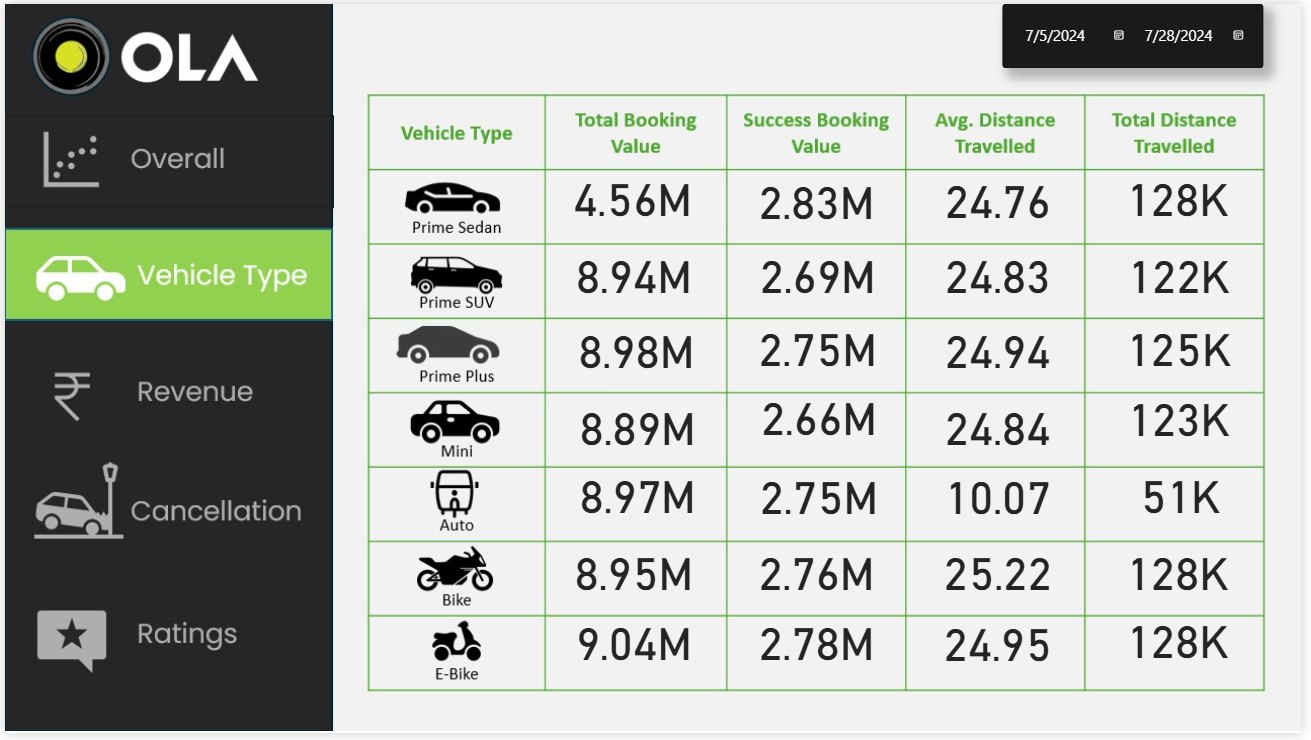

This screenshot's page, from the dashboard's own definition file:
{"tool":"powerbi","page":{"name":"Vehicle Type","canvas":[1280,720],"ordinal":1},"visuals":[{"type":"actionButton","box":[0,334.3,324.8,91.7],"z":0},{"type":"actionButton","box":[0,447.1,324.8,91.7],"z":1000},{"type":"actionButton","box":[0,577.9,324.8,91.7],"z":2000},{"type":"actionButton","box":[0,109.7,324.8,91.7],"z":3000},{"type":"card","fields":{"Values":["Sum(July.Booking_Value)"]},"box":[537.5,168.6,165.9,61.7],"z":4000},{"type":"card","fields":{"Values":["Sum(July.Booking_Value)"]},"box":[538.8,607.4,165.9,61.7],"z":5000},{"type":"card","fields":{"Values":["Sum(July.Booking_Value)"]},"box":[538.8,244,165.9,61.7],"z":6000},{"type":"card","fields":{"Values":["Sum(July.Booking_Value)"]},"box":[540.2,318.1,165.9,61.7],"z":7000},{"type":"card","fields":{"Values":["Sum(July.Booking_Value)"]},"box":[541.6,394.9,165.9,61.7],"z":8000},{"type":"card","fields":{"Values":["Sum(July.Booking_Value)"]},"box":[541.6,462,165.9,61.7],"z":9000},{"type":"card","fields":{"Values":["Sum(July.Booking_Value)"]},"box":[538.8,538.8,165.9,61.7],"z":10000},{"type":"card","fields":{"Values":["Sum(July.Booking_Value)"]},"box":[718.4,171.4,165.9,61.7],"z":11000},{"type":"card","fields":{"Values":["Sum(July.Booking_Value)"]},"box":[719.8,244,165.9,61.7],"z":12000},{"type":"card","fields":{"Values":["Sum(July.Booking_Value)"]},"box":[721.2,385.3,165.9,61.7],"z":13000},{"type":"card","fields":{"Values":["Sum(July.Booking_Value)"]},"box":[719.8,316.7,165.9,61.7],"z":14000},{"type":"card","fields":{"Values":["Sum(July.Booking_Value)"]},"box":[721.2,463.4,165.9,61.7],"z":15000},{"type":"card","fields":{"Values":["Sum(July.Booking_Value)"]},"box":[718.4,538.8,165.9,61.7],"z":16000},{"type":"card","fields":{"Values":["Sum(July.Booking_Value)"]},"box":[718.4,607.4,165.9,61.7],"z":17000},{"type":"card","fields":{"Values":["Avg(July.Ride_Distance)"]},"box":[898,170,165.9,61.7],"z":18000},{"type":"card","fields":{"Values":["Avg(July.Ride_Distance)"]},"box":[898,244,165.9,61.7],"z":19000},{"type":"card","fields":{"Values":["Avg(July.Ride_Distance)"]},"box":[898,318.1,165.9,61.7],"z":20000},{"type":"card","fields":{"Values":["Avg(July.Ride_Distance)"]},"box":[898,394.9,165.9,61.7],"z":21000},{"type":"card","fields":{"Values":["Avg(July.Ride_Distance)"]},"box":[898,463.4,165.9,61.7],"z":22000},{"type":"card","fields":{"Values":["Avg(July.Ride_Distance)"]},"box":[898,538.8,165.9,61.7],"z":23000},{"type":"card","fields":{"Values":["Avg(July.Ride_Distance)"]},"box":[898,608.7,165.9,61.7],"z":24000},{"type":"card","fields":{"Values":["Sum(July.Ride_Distance)"]},"box":[1074.9,168.6,165.9,61.7],"z":25000},{"type":"card","fields":{"Values":["Sum(July.Ride_Distance)"]},"box":[1076.3,244,165.9,61.7],"z":26000},{"type":"card","fields":{"Values":["Sum(July.Ride_Distance)"]},"box":[1076.3,316.7,165.9,61.7],"z":27000},{"type":"card","fields":{"Values":["Sum(July.Ride_Distance)"]},"box":[1076.3,386.6,165.9,61.7],"z":28000},{"type":"card","fields":{"Values":["Sum(July.Ride_Distance)"]},"box":[1077.6,462,165.9,61.7],"z":29000},{"type":"card","fields":{"Values":["Sum(July.Ride_Distance)"]},"box":[1074.9,538.8,165.9,61.7],"z":30000},{"type":"card","fields":{"Values":["Sum(July.Ride_Distance)"]},"box":[1074.9,608.7,165.9,56.2],"z":31000},{"type":"slicer","title":"DATE","fields":{"Values":["July.Date"]},"box":[985.8,0,257.8,63.1],"z":32000}]}

Visuals, with their boxes on the page's 1280x720 design canvas (x1, y1, x2, y2). These are canvas units, not pixel positions in the 1311x740 screenshot, which may show the page scaled, cropped or inside an application window:
actionButton: rect(0, 334, 325, 426)
actionButton: rect(0, 447, 325, 539)
actionButton: rect(0, 578, 325, 670)
actionButton: rect(0, 110, 325, 201)
card - Sum(July.Booking_Value): rect(538, 169, 703, 230)
card - Sum(July.Booking_Value): rect(539, 607, 705, 669)
card - Sum(July.Booking_Value): rect(539, 244, 705, 306)
card - Sum(July.Booking_Value): rect(540, 318, 706, 380)
card - Sum(July.Booking_Value): rect(542, 395, 708, 457)
card - Sum(July.Booking_Value): rect(542, 462, 708, 524)
card - Sum(July.Booking_Value): rect(539, 539, 705, 600)
card - Sum(July.Booking_Value): rect(718, 171, 884, 233)
card - Sum(July.Booking_Value): rect(720, 244, 886, 306)
card - Sum(July.Booking_Value): rect(721, 385, 887, 447)
card - Sum(July.Booking_Value): rect(720, 317, 886, 378)
card - Sum(July.Booking_Value): rect(721, 463, 887, 525)
card - Sum(July.Booking_Value): rect(718, 539, 884, 600)
card - Sum(July.Booking_Value): rect(718, 607, 884, 669)
card - Avg(July.Ride_Distance): rect(898, 170, 1064, 232)
card - Avg(July.Ride_Distance): rect(898, 244, 1064, 306)
card - Avg(July.Ride_Distance): rect(898, 318, 1064, 380)
card - Avg(July.Ride_Distance): rect(898, 395, 1064, 457)
card - Avg(July.Ride_Distance): rect(898, 463, 1064, 525)
card - Avg(July.Ride_Distance): rect(898, 539, 1064, 600)
card - Avg(July.Ride_Distance): rect(898, 609, 1064, 670)
card - Sum(July.Ride_Distance): rect(1075, 169, 1241, 230)
card - Sum(July.Ride_Distance): rect(1076, 244, 1242, 306)
card - Sum(July.Ride_Distance): rect(1076, 317, 1242, 378)
card - Sum(July.Ride_Distance): rect(1076, 387, 1242, 448)
card - Sum(July.Ride_Distance): rect(1078, 462, 1244, 524)
card - Sum(July.Ride_Distance): rect(1075, 539, 1241, 600)
card - Sum(July.Ride_Distance): rect(1075, 609, 1241, 665)
"DATE" slicer: rect(986, 0, 1244, 63)
